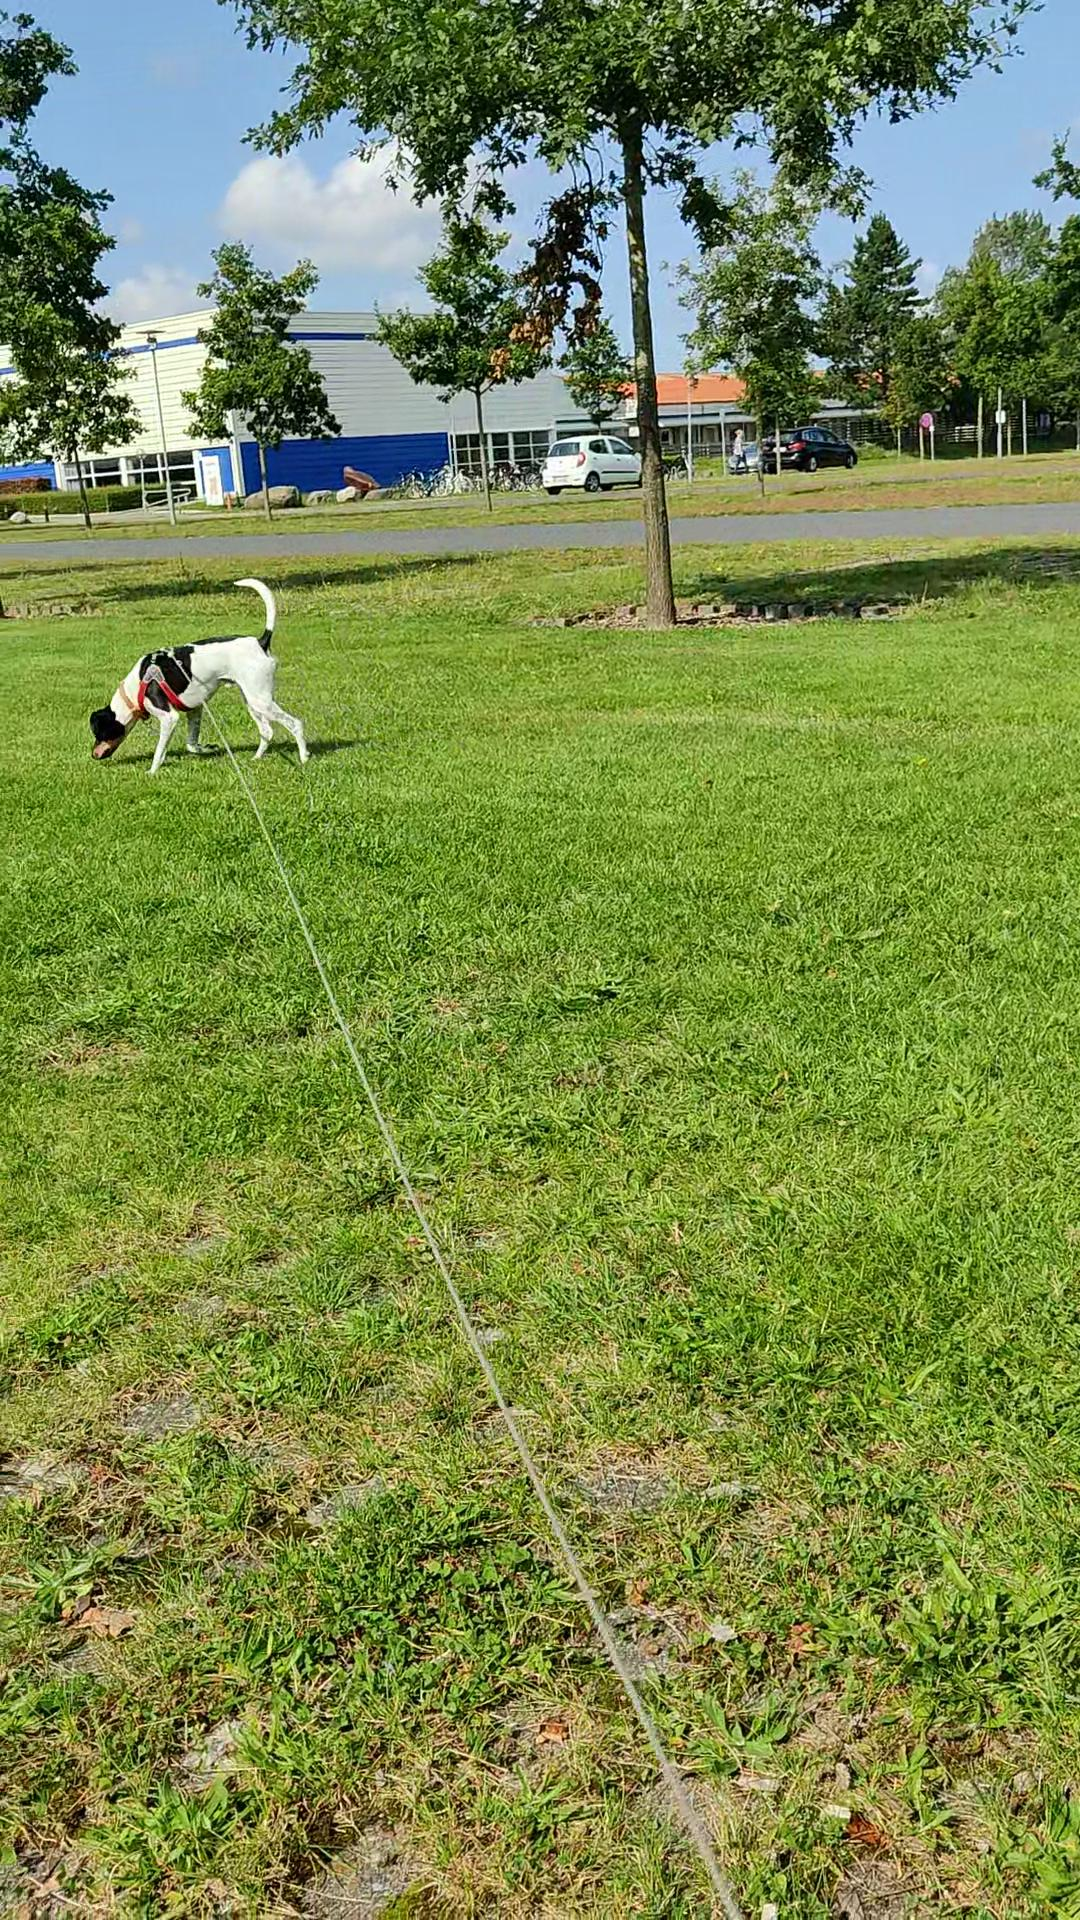Dog: (83, 571, 316, 781)
